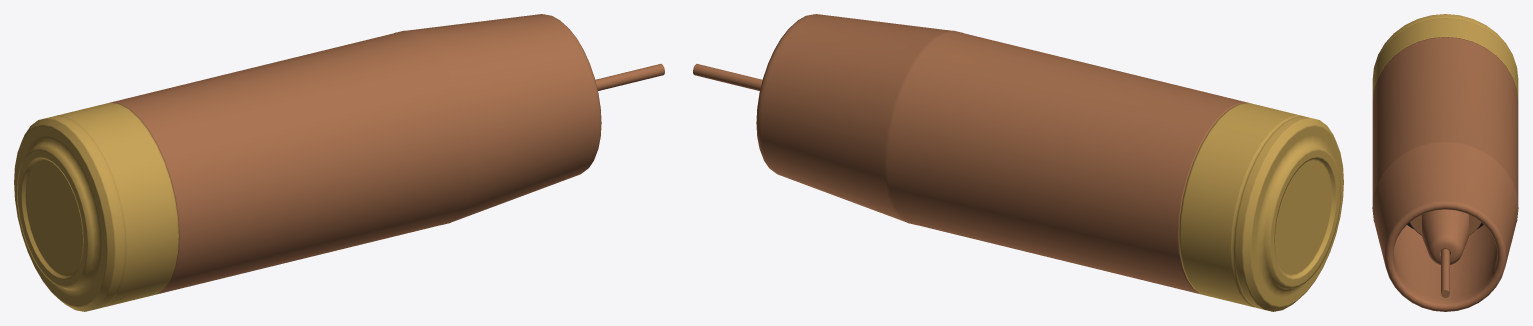
File: Handbrenner MTW500i Ghost.fbx
3 renders of one model, left to right at view 1: azimuth 30°, elevation 25°; view 2: azimuth 150°, elevation 25°; view 3: azimuth 270°, elevation 25°, orthographic. The views are drawn at different scales.
Parts seen in each view (by area): view 1: Gasduese_Ghost, Gasduese_Schwanenhals_Ghost, Schweissdraht, Gasduese_Rand_unten_Ghost; view 2: Gasduese_Ghost, Gasduese_Schwanenhals_Ghost, Schweissdraht, Gasduese_Rand_unten_Ghost; view 3: Gasduese_Ghost, Gasduese_Schwanenhals_Ghost, Stromduese, Gasduese_Rand_unten_Ghost, Schweissdraht.
Part boxes in pixels (x1,y1,x2,y2): Gasduese_Ghost: [110, 14, 601, 294]; Gasduese_Schwanenhals_Ghost: [14, 102, 178, 311]; Schweissdraht: [595, 64, 664, 90]; Gasduese_Rand_unten_Ghost: [544, 14, 601, 170]; Gasduese_Ghost: [756, 14, 1247, 294]; Gasduese_Schwanenhals_Ghost: [1179, 102, 1343, 311]; Schweissdraht: [693, 64, 762, 90]; Gasduese_Rand_unten_Ghost: [756, 14, 817, 174]; Gasduese_Ghost: [1372, 37, 1518, 311]; Gasduese_Schwanenhals_Ghost: [1372, 14, 1518, 99]; Stromduese: [1409, 209, 1481, 264]; Gasduese_Rand_unten_Ghost: [1384, 200, 1506, 311]; Schweissdraht: [1441, 249, 1449, 297].
Bounding box in the file's own units: 88.68 × 25.05 × 25.05.
